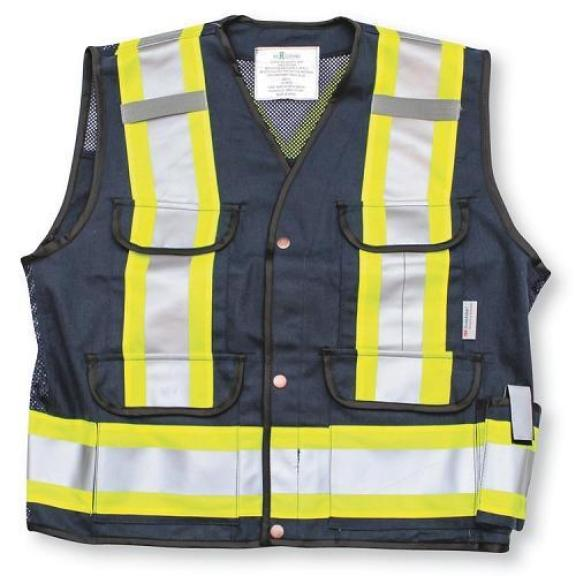safety_vest: (18, 13, 550, 562)
